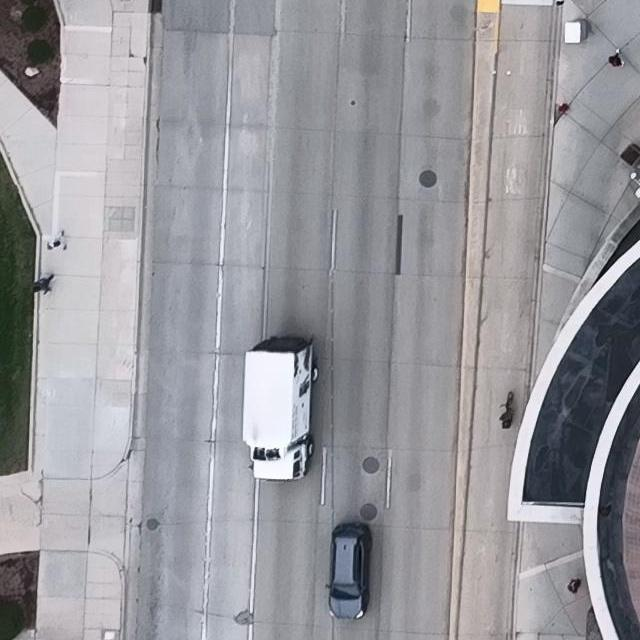car: (242, 336, 319, 481), (326, 522, 373, 620)
